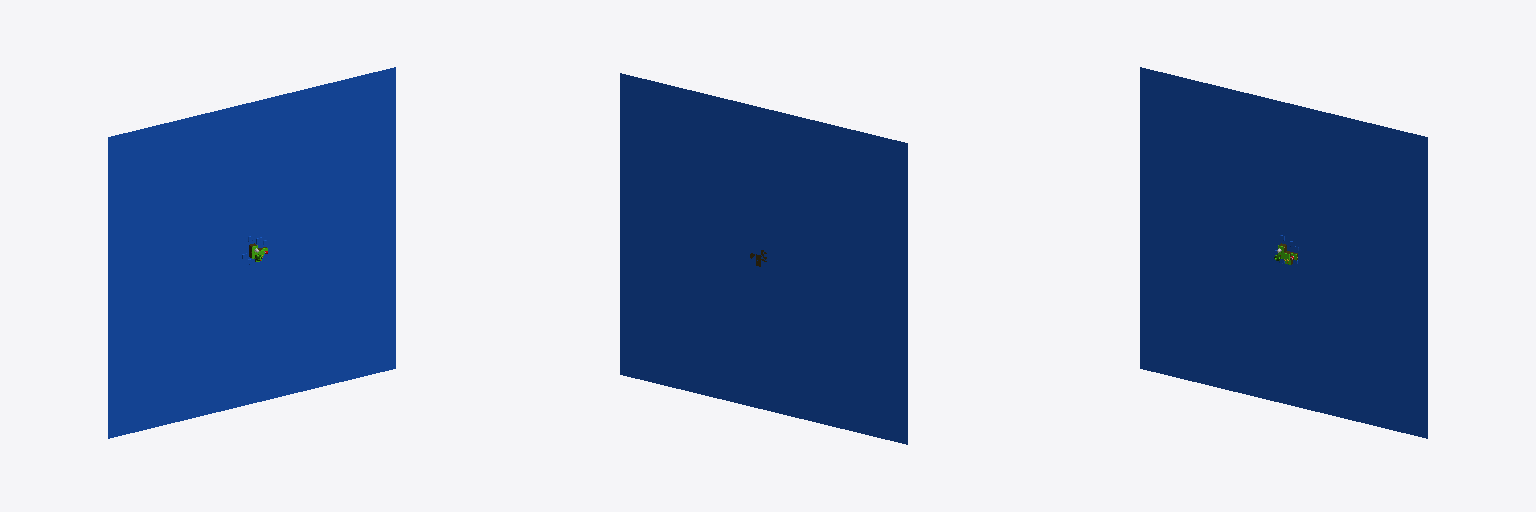
The picture shows the model from 3 angles: view 1: azimuth 30°, elevation 25°; view 2: azimuth 150°, elevation 25°; view 3: azimuth 330°, elevation 25°; orthographic projection.
Visible parts, largest first — view 1: Plane.012; view 2: Plane.012; view 3: Plane.012.
Part boxes in pixels (left/top/right/bottom): Plane.012: left=108, top=67, right=395, bottom=438; Plane.012: left=620, top=73, right=907, bottom=444; Plane.012: left=1140, top=67, right=1427, bottom=438.
Size of the model in its own units: 101 by 101 by 4.96.